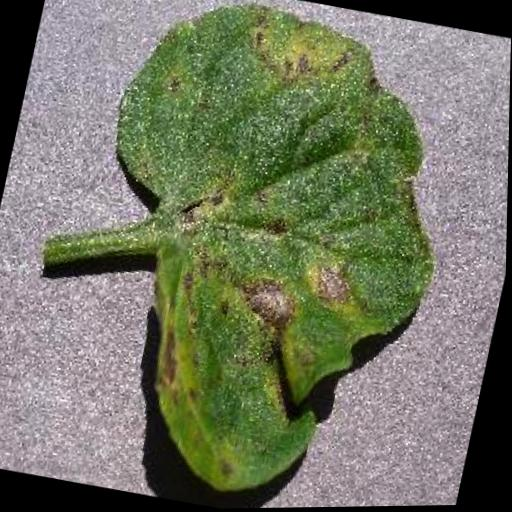Septoria: (44, 0, 490, 511)
